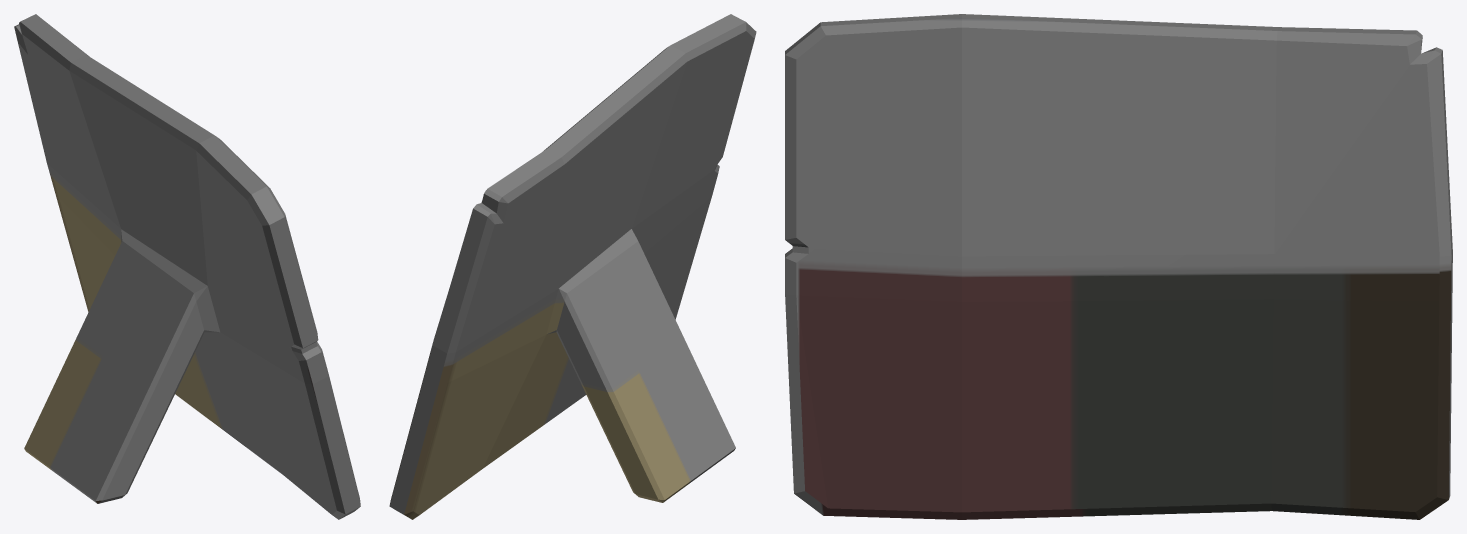
Rendered from CowCutout.fbx.
The picture shows the model from 3 angles, left to right: view 1: azimuth 30°, elevation 25°; view 2: azimuth 150°, elevation 25°; view 3: azimuth 270°, elevation 25°; orthographic projection. The views are drawn at different scales.
Parts seen in each view (by area): view 1: COW; view 2: COW; view 3: COW.
Part boxes in pixels (x1,y1,x2,y2): COW: (14, 14, 360, 519); COW: (389, 14, 756, 519); COW: (785, 14, 1452, 519).
Size of the model in its own units: 140 by 263 by 348.
